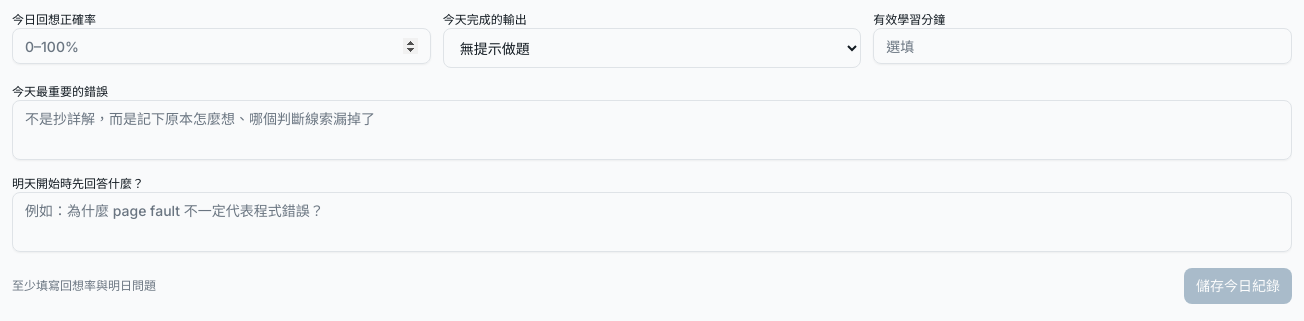
DailyReflectionForm › requires recall accuracy and tomorrow question before saving
The width and height of the screenshot is (1304, 321).
Expected: the button "儲存今日紀錄" is disabled, [1184,268,1292,304]
In the number field labelled "今日回想正確率": (221, 46) [12,28,431,64], type "75"
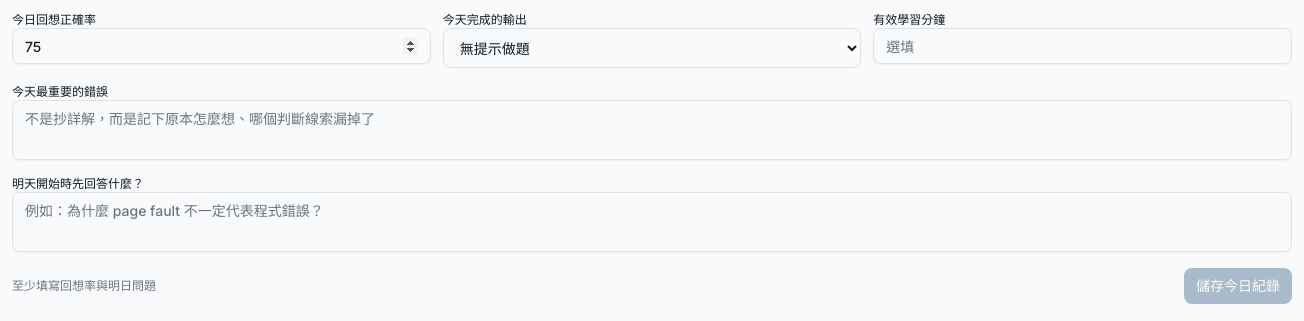
In the text box labelled "明天開始時先回答什麼？": (652, 222) [12,192,1292,252], type "為什麼需要 virtual memory？"
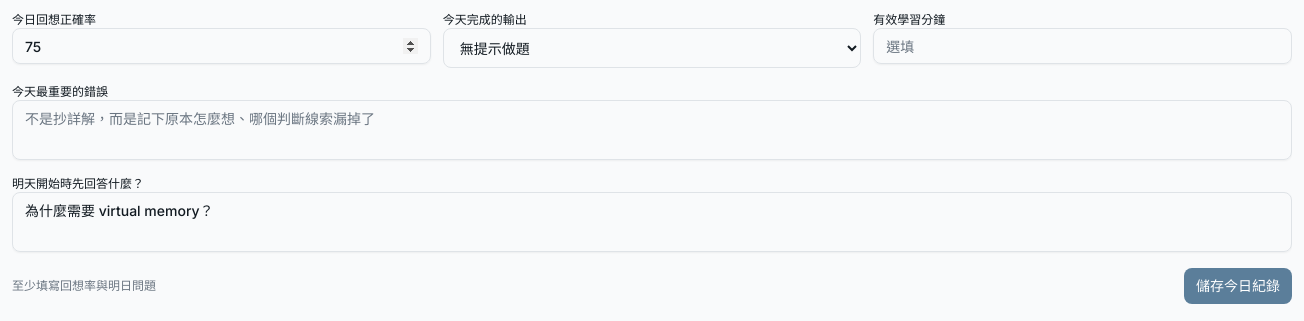
Select "白紙重建" in the dropdown labelled "今天完成的輸出": (652, 48) [443,28,861,68]
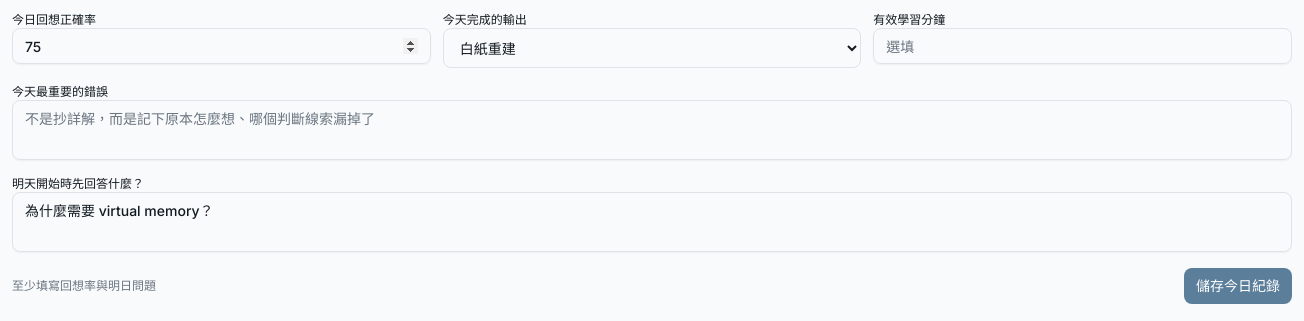
Click the button "儲存今日紀錄": (1238, 286) [1184,268,1292,304]
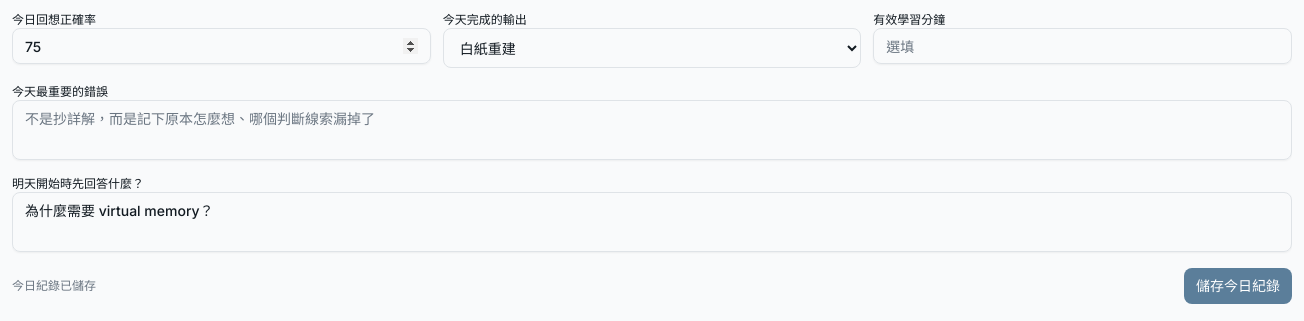
Expected: the text "今日紀錄已儲存" is shown, [12,278,96,294]
